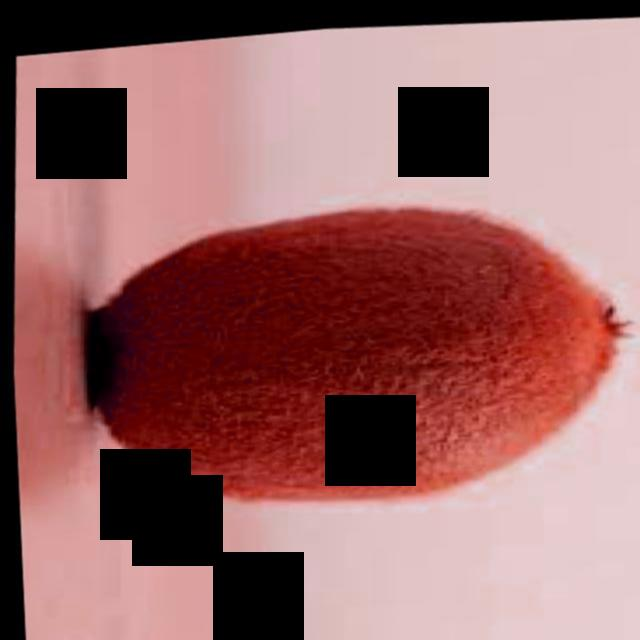kiwi: (63, 144, 640, 550)
